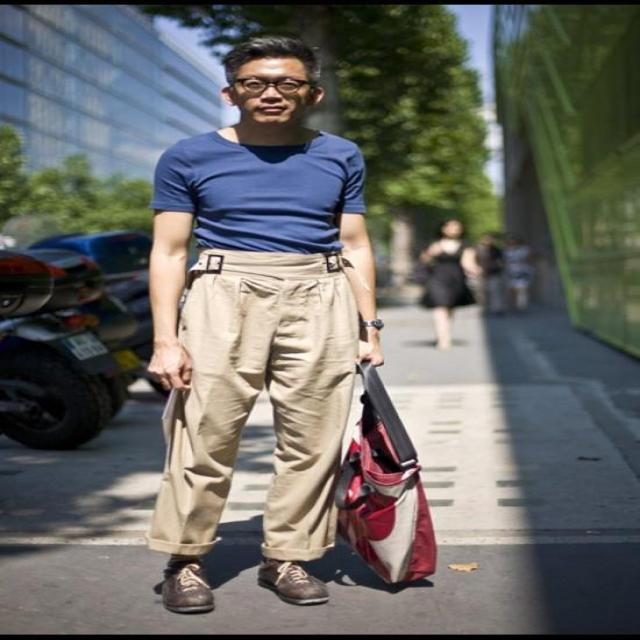Tshirt: (150, 129, 368, 255)
pants: (147, 248, 360, 562)
